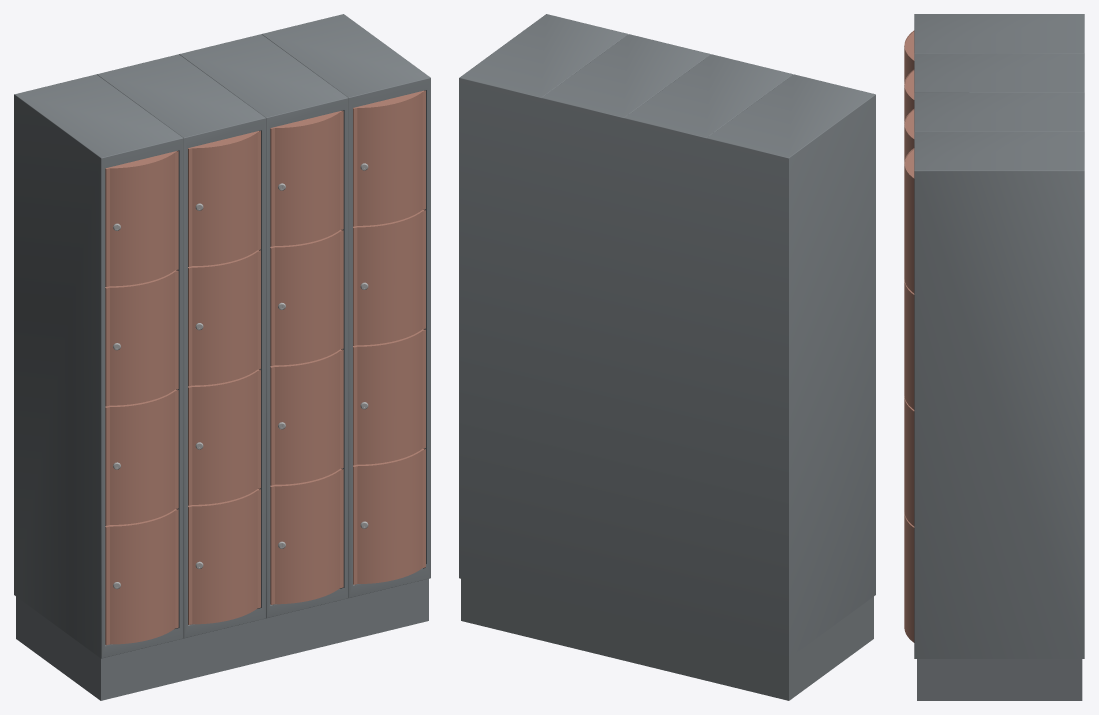
Rendered from Furniture_Shelving-Storage_AJ-Produkter_Compartment-Locker-Curve-1200mm-4-Sectio.glb.
3 views of the same model, side by side, from view 1: azimuth 30°, elevation 25°; view 2: azimuth 150°, elevation 25°; view 3: azimuth 270°, elevation 25° (orthographic). The views are drawn at different scales.
Parts seen in each view (by area): view 1: L_fb01546f_6fea_450c_b1e7_a5dc954b03b4_I69, L_dc7194c6_56d8_477a_a55f_11a748d043a3_I61, L_119e13ae_f0c9_49e6_beea_383fb363c96a_I8, L_0b956379_079d_43a7_a951_2a4ac95364c8_I6, L_31c257cc_d214_482f_84a0_d3bfda2aa369_I17, L_7b329231_837f_4f99_a4fa_08dc84d4913b_I39, L_0877ca9b_a40a_4158_abd4_c0c74febc1b9_I5, L_143f7e58_409d_4629_a819_a461802102a4_I9, L_49061688_a47c_4f55_a38c_b67b7155ee56_I23, L_cd9bd76f_8abe_4d25_be61_c1b0b7a02091_I58, L_e77cf814_5c3b_4e3c_bd17_dbd61903e04b_I65, L_338c8e57_1453_43f3_9e57_da6ae1924852_I18 (+9 smaller); view 2: L_fb01546f_6fea_450c_b1e7_a5dc954b03b4_I69, L_119e13ae_f0c9_49e6_beea_383fb363c96a_I8, L_31c257cc_d214_482f_84a0_d3bfda2aa369_I17, L_0b956379_079d_43a7_a951_2a4ac95364c8_I6, L_dc7194c6_56d8_477a_a55f_11a748d043a3_I61; view 3: L_31c257cc_d214_482f_84a0_d3bfda2aa369_I17, L_dc7194c6_56d8_477a_a55f_11a748d043a3_I61, L_0b956379_079d_43a7_a951_2a4ac95364c8_I6, L_119e13ae_f0c9_49e6_beea_383fb363c96a_I8, L_fb01546f_6fea_450c_b1e7_a5dc954b03b4_I69, L_ef2fe864_7ff7_4c60_89fa_e9adb6abc0dd_I68, L_bab0e11b_7d7e_4e6c_8a03_10a758de0b5e_I54, L_b12b5b6d_54a8_46b6_aba4_4b0aaa058909_I51, L_7271acaa_ef1c_4605_b43e_1129e3bc6a9a_I35.
Boxes of the visible parts, x1,y1,x2,y2 form: L_fb01546f_6fea_450c_b1e7_a5dc954b03b4_I69: [14, 74, 183, 658]; L_dc7194c6_56d8_477a_a55f_11a748d043a3_I61: [16, 564, 428, 700]; L_119e13ae_f0c9_49e6_beea_383fb363c96a_I8: [179, 34, 348, 618]; L_0b956379_079d_43a7_a951_2a4ac95364c8_I6: [97, 54, 265, 638]; L_31c257cc_d214_482f_84a0_d3bfda2aa369_I17: [262, 14, 430, 597]; L_7b329231_837f_4f99_a4fa_08dc84d4913b_I39: [270, 349, 343, 485]; L_0877ca9b_a40a_4158_abd4_c0c74febc1b9_I5: [105, 389, 178, 525]; L_143f7e58_409d_4629_a819_a461802102a4_I9: [270, 468, 343, 604]; L_49061688_a47c_4f55_a38c_b67b7155ee56_I23: [105, 508, 178, 645]; L_cd9bd76f_8abe_4d25_be61_c1b0b7a02091_I58: [105, 270, 178, 406]; L_e77cf814_5c3b_4e3c_bd17_dbd61903e04b_I65: [270, 229, 343, 365]; L_338c8e57_1453_43f3_9e57_da6ae1924852_I18: [105, 151, 178, 286]; L_fb01546f_6fea_450c_b1e7_a5dc954b03b4_I69: [706, 74, 875, 658]; L_119e13ae_f0c9_49e6_beea_383fb363c96a_I8: [541, 34, 710, 618]; L_31c257cc_d214_482f_84a0_d3bfda2aa369_I17: [459, 14, 628, 598]; L_0b956379_079d_43a7_a951_2a4ac95364c8_I6: [624, 54, 792, 638]; L_dc7194c6_56d8_477a_a55f_11a748d043a3_I61: [461, 579, 873, 700]; L_31c257cc_d214_482f_84a0_d3bfda2aa369_I17: [914, 131, 1084, 658]; L_dc7194c6_56d8_477a_a55f_11a748d043a3_I61: [917, 659, 1082, 700]; L_0b956379_079d_43a7_a951_2a4ac95364c8_I6: [914, 53, 1084, 92]; L_119e13ae_f0c9_49e6_beea_383fb363c96a_I8: [914, 92, 1084, 131]; L_fb01546f_6fea_450c_b1e7_a5dc954b03b4_I69: [914, 14, 1084, 53]; L_ef2fe864_7ff7_4c60_89fa_e9adb6abc0dd_I68: [904, 148, 914, 293]; L_bab0e11b_7d7e_4e6c_8a03_10a758de0b5e_I54: [904, 396, 914, 525]; L_b12b5b6d_54a8_46b6_aba4_4b0aaa058909_I51: [904, 513, 914, 642]; L_7271acaa_ef1c_4605_b43e_1129e3bc6a9a_I35: [904, 280, 914, 409].
Bounding box in the file's own units: 1.2 × 1.89 × 0.5821.
